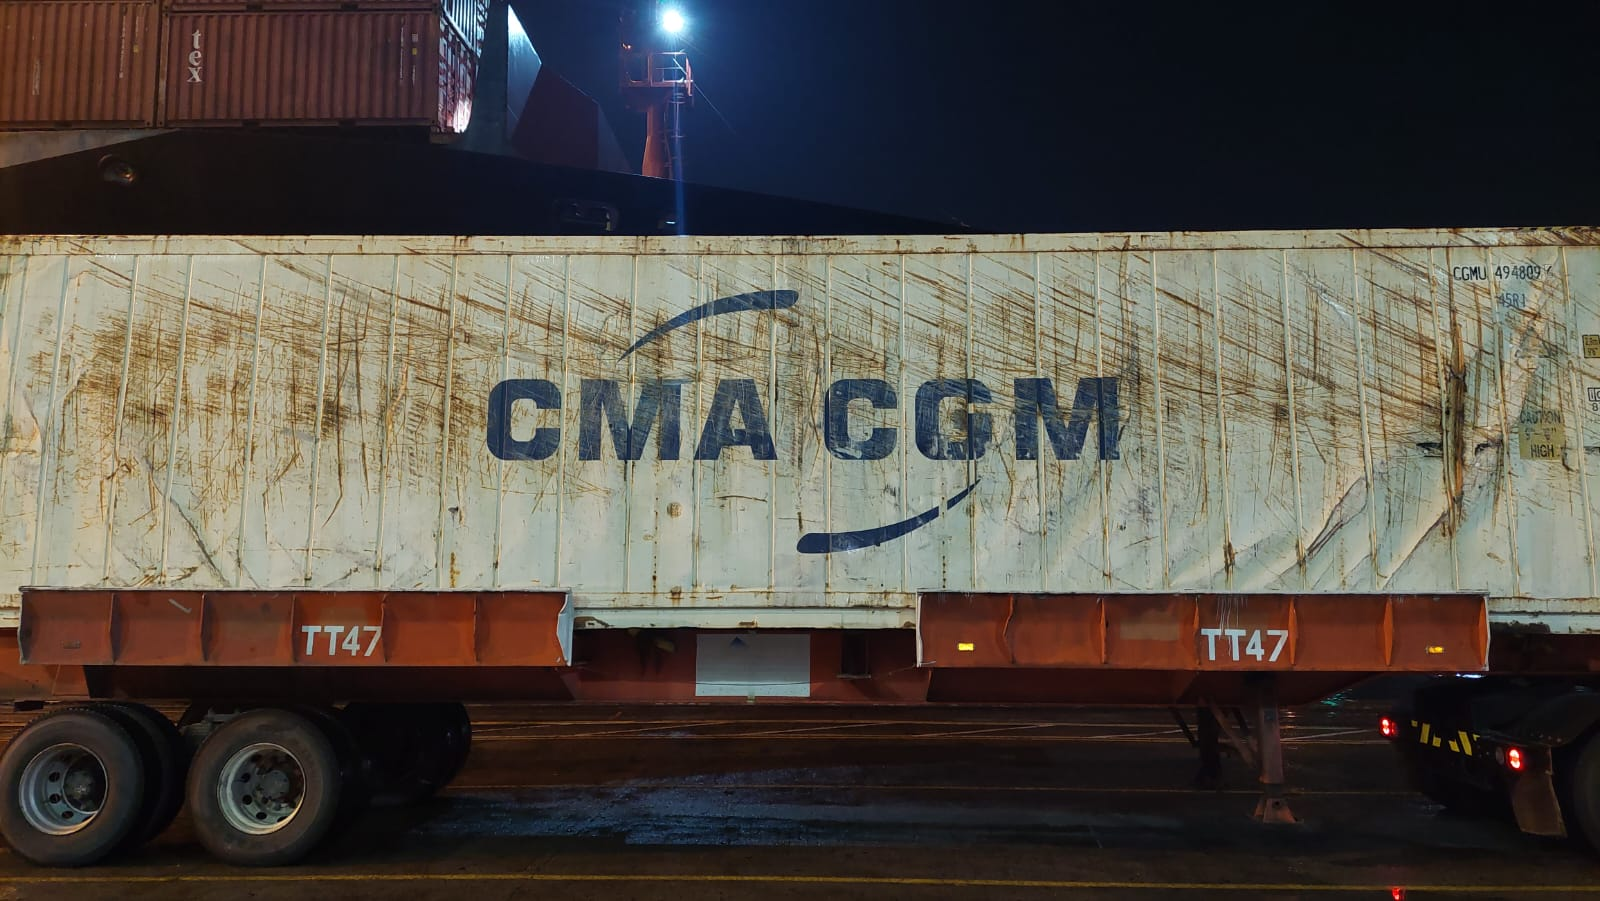bulged: (1270, 283, 1557, 583)
